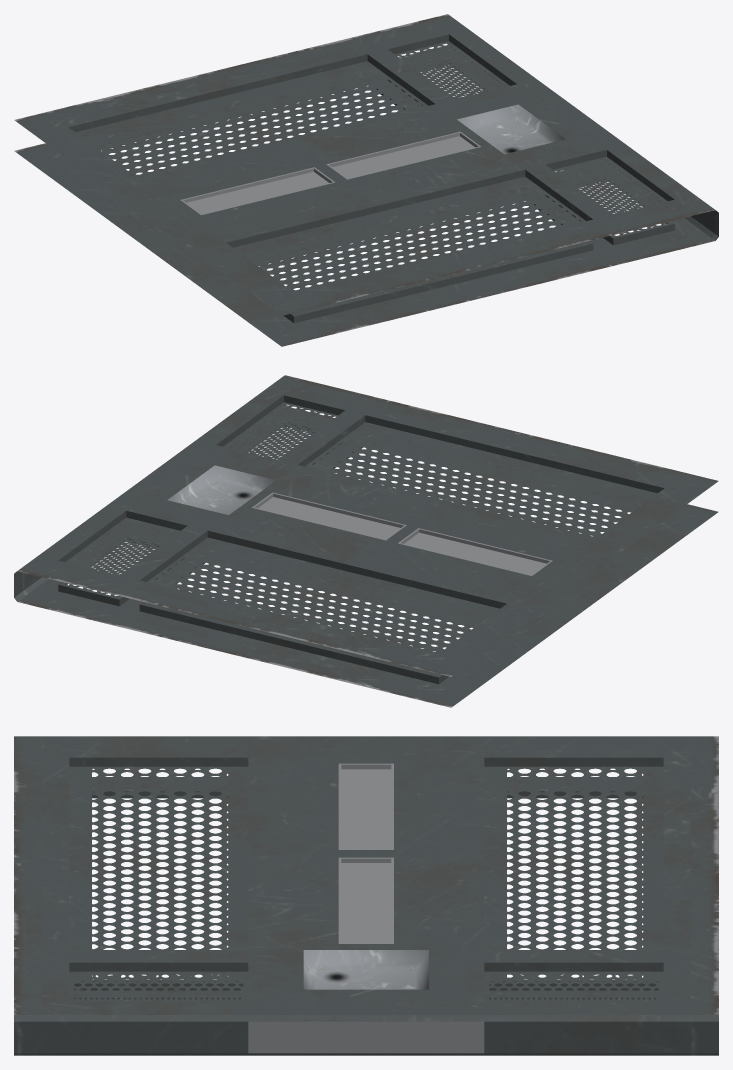
The model's file is SM_GuardTower_LG_Trapdoor.fbx.
3 views of the same model, one above another, from view 1: azimuth 30°, elevation 25°; view 2: azimuth 150°, elevation 25°; view 3: azimuth 270°, elevation 25° (orthographic). The views are drawn at different scales.
Parts seen in each view (by area): view 1: SM_GuardTower_LG_Trapdoor; view 2: SM_GuardTower_LG_Trapdoor; view 3: SM_GuardTower_LG_Trapdoor.
Boxes of the visible parts, x1=… form: SM_GuardTower_LG_Trapdoor: x1=14, y1=14, x2=718, y2=346; SM_GuardTower_LG_Trapdoor: x1=14, y1=375, x2=718, y2=707; SM_GuardTower_LG_Trapdoor: x1=14, y1=736, x2=718, y2=1055.
Bounding box in the file's own units: 134 × 142 × 9.04.
Materials: 1 (1 with a texture image).
